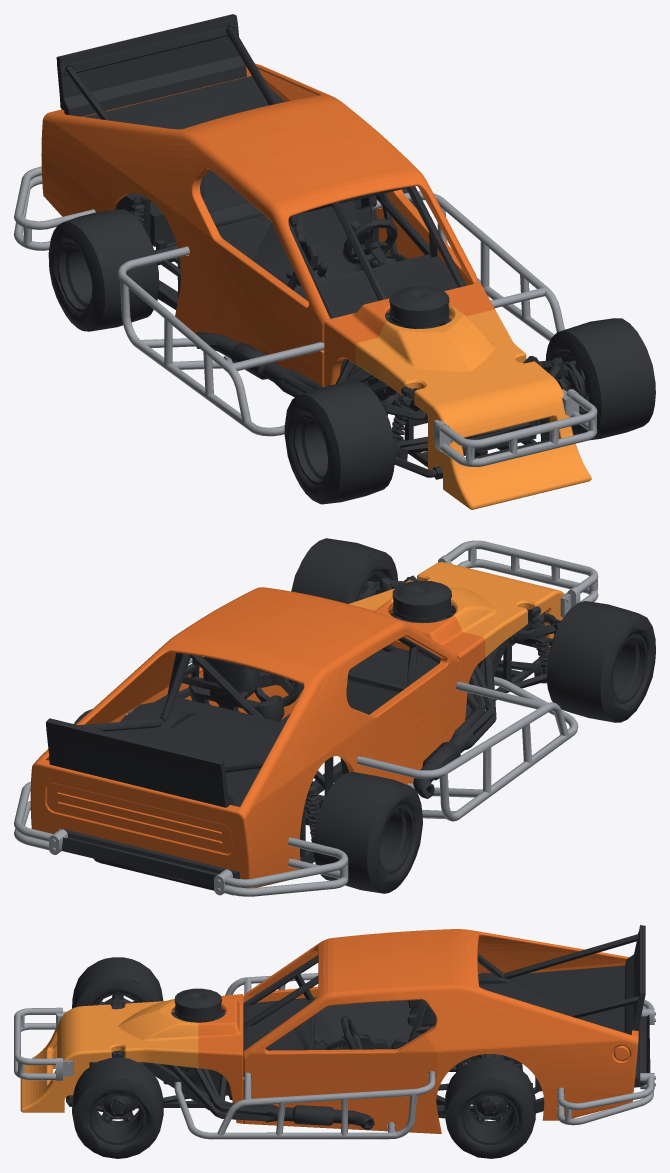
The model's file is TourModified.fbx.
The picture shows the model from 3 angles, top to bottom: view 1: azimuth 30°, elevation 25°; view 2: azimuth 150°, elevation 25°; view 3: azimuth 270°, elevation 25°; orthographic projection. The views are drawn at different scales.
Visible parts, largest first — view 1: BodyPaint, wheel, HoodTrunkPaint, ModifiedMetal, TourModified.Wheel.Ft.R, TourModified.Wheel.Bk.R, TourModified.Wheel.Ft.L; view 2: BodyPaint, wheel, ModifiedMetal, TourModified.Wheel.Ft.R, TourModified.Wheel.Bk.R, HoodTrunkPaint, TourModified.Wheel.Ft.L; view 3: BodyPaint, wheel, HoodTrunkPaint, ModifiedMetal, TourModified.Wheel.Bk.L, TourModified.Wheel.Ft.L, TourModified.Wheel.Ft.R.
Boxes of the visible parts, x1,y1,x2,y2 form: BodyPaint: (41,63,494,387); wheel: (56,14,584,479); HoodTrunkPaint: (355,306,591,509); ModifiedMetal: (14,166,597,466); TourModified.Wheel.Ft.R: (284,381,394,504); TourModified.Wheel.Bk.R: (48,209,159,331); TourModified.Wheel.Ft.L: (545,318,655,440); BodyPaint: (30,587,485,888); wheel: (46,575,561,895); ModifiedMetal: (14,540,598,896); TourModified.Wheel.Ft.R: (547,601,655,722); TourModified.Wheel.Bk.R: (314,772,422,893); HoodTrunkPaint: (349,562,564,657); TourModified.Wheel.Ft.L: (291,538,397,603); BodyPaint: (198,929,638,1133); wheel: (66,925,650,1129); HoodTrunkPaint: (20,999,198,1112); ModifiedMetal: (14,973,655,1139); TourModified.Wheel.Bk.L: (444,1057,535,1158); TourModified.Wheel.Ft.L: (72,1057,163,1158); TourModified.Wheel.Ft.R: (72,957,163,1055).
Size of the model in its own units: 133 by 74.74 by 290.
